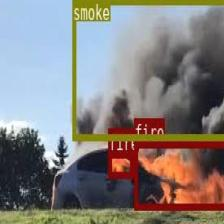fire: (133, 140, 224, 208), (108, 151, 133, 176)
smoke: (72, 0, 224, 139)
